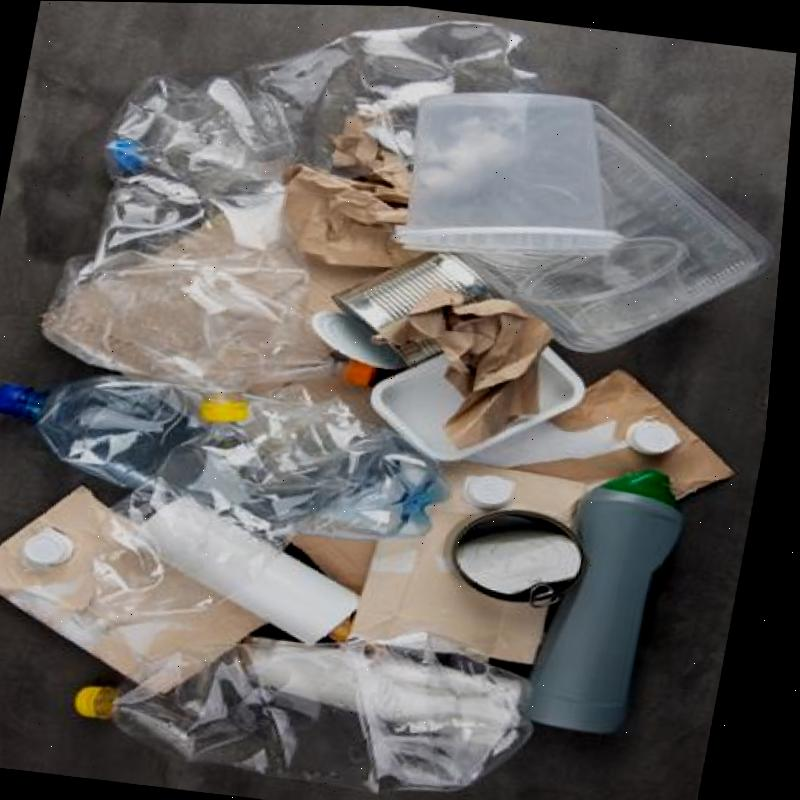botella: (50, 362, 406, 681), (86, 1, 541, 246), (71, 592, 551, 800), (25, 160, 382, 438), (0, 358, 462, 535)
